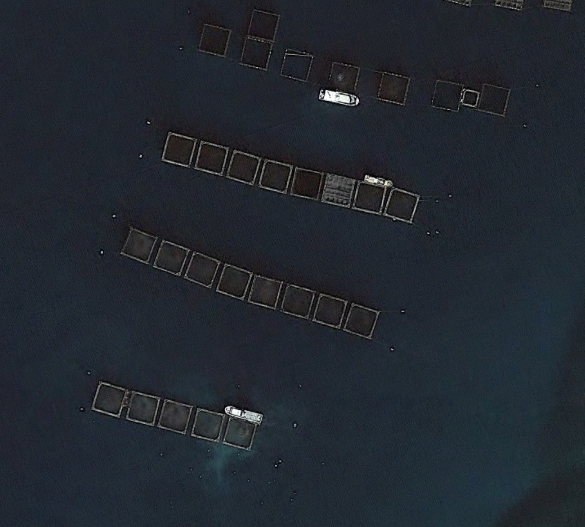ship: (318, 83, 364, 111), (219, 401, 270, 425), (358, 168, 399, 195)
square: (218, 406, 277, 473), (85, 375, 137, 428), (119, 382, 169, 437), (120, 220, 166, 275), (276, 277, 322, 330), (351, 171, 394, 227), (275, 41, 325, 89), (187, 399, 228, 456), (347, 297, 391, 350), (152, 233, 197, 282), (241, 268, 283, 320), (184, 247, 227, 297), (383, 180, 427, 228), (327, 56, 373, 101), (159, 125, 204, 171), (234, 27, 277, 74), (313, 287, 351, 339), (213, 256, 255, 303), (155, 393, 197, 439), (376, 68, 421, 109), (318, 165, 355, 214), (289, 162, 328, 207), (196, 16, 236, 58), (477, 76, 517, 118), (225, 149, 265, 191), (244, 2, 284, 42), (264, 157, 299, 202), (196, 138, 232, 181), (429, 75, 468, 114)
